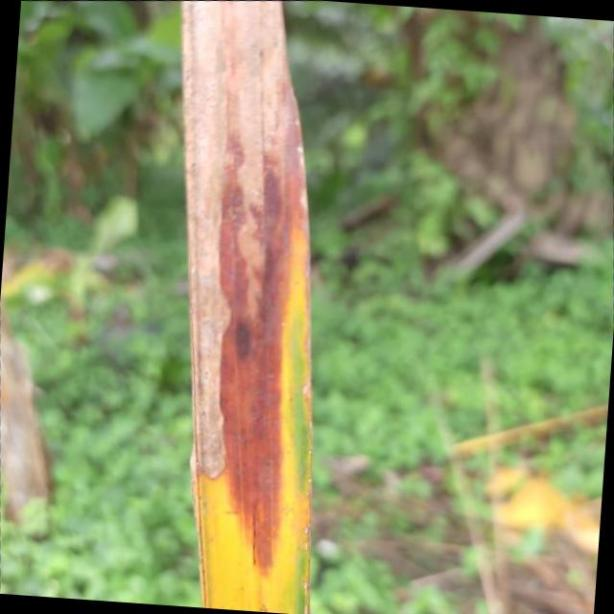Megnesium: (178, 0, 308, 614)
